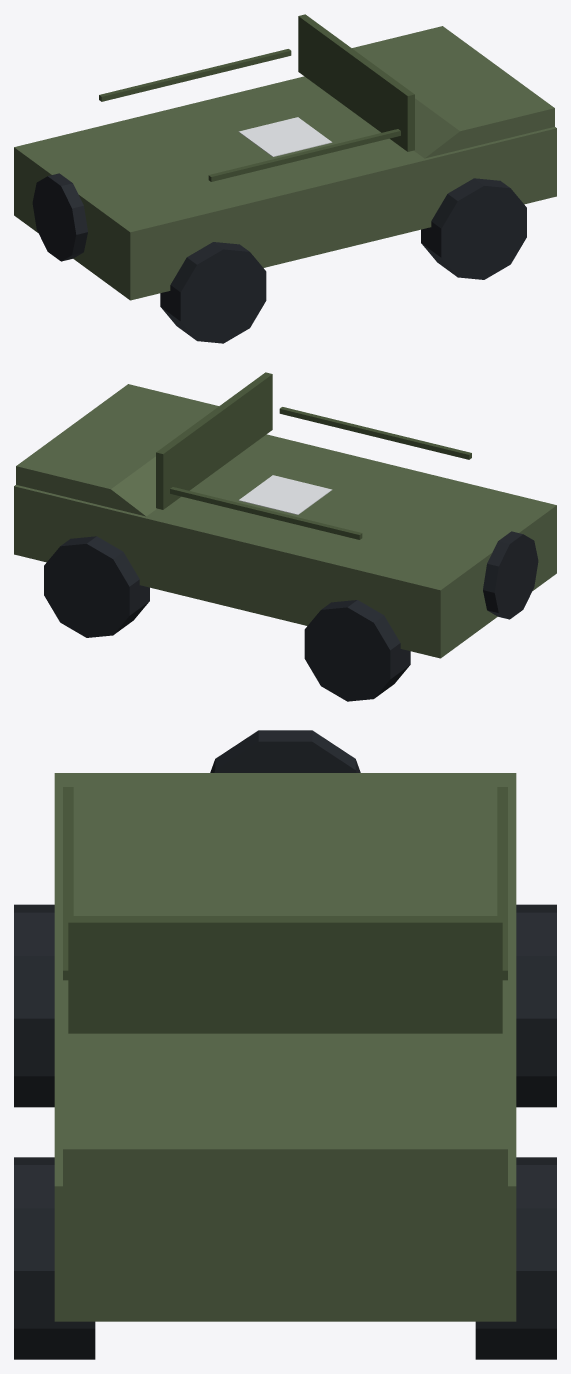
The model's file is military_jeep.glb.
3 renders of one model, top to bottom at view 1: azimuth 30°, elevation 25°; view 2: azimuth 150°, elevation 25°; view 3: azimuth 270°, elevation 25°, orthographic. The views are drawn at different scales.
Parts seen in each view (by area): view 1: military_jeep; view 2: military_jeep; view 3: military_jeep.
Boxes of the visible parts, x1=… form: military_jeep: x1=14, y1=14, x2=556, y2=343; military_jeep: x1=14, y1=372, x2=556, y2=701; military_jeep: x1=14, y1=730, x2=556, y2=1359.
Bounding box in the file's own units: 3.75 × 1.52 × 2.
